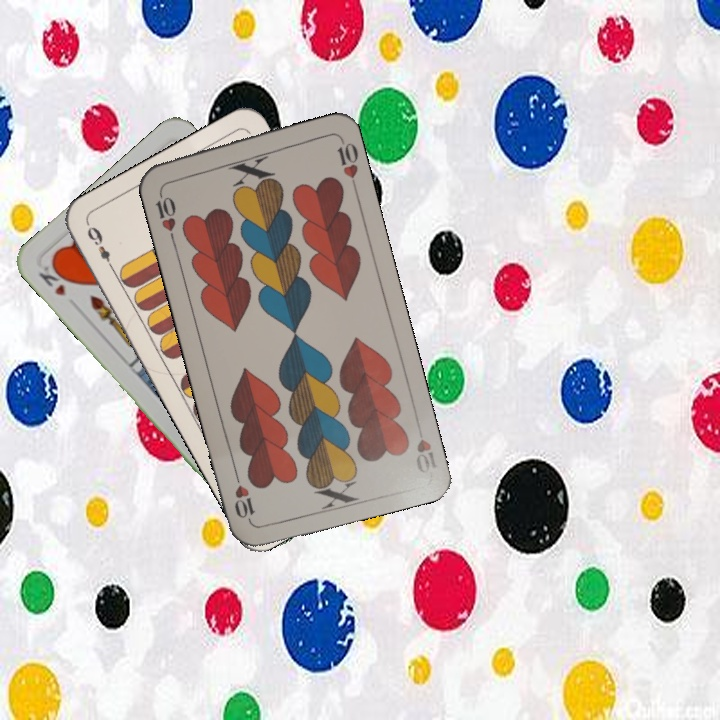E9: (83, 220, 118, 275)
H10: (151, 184, 179, 243), (412, 434, 440, 476)
HK: (34, 256, 73, 299)
